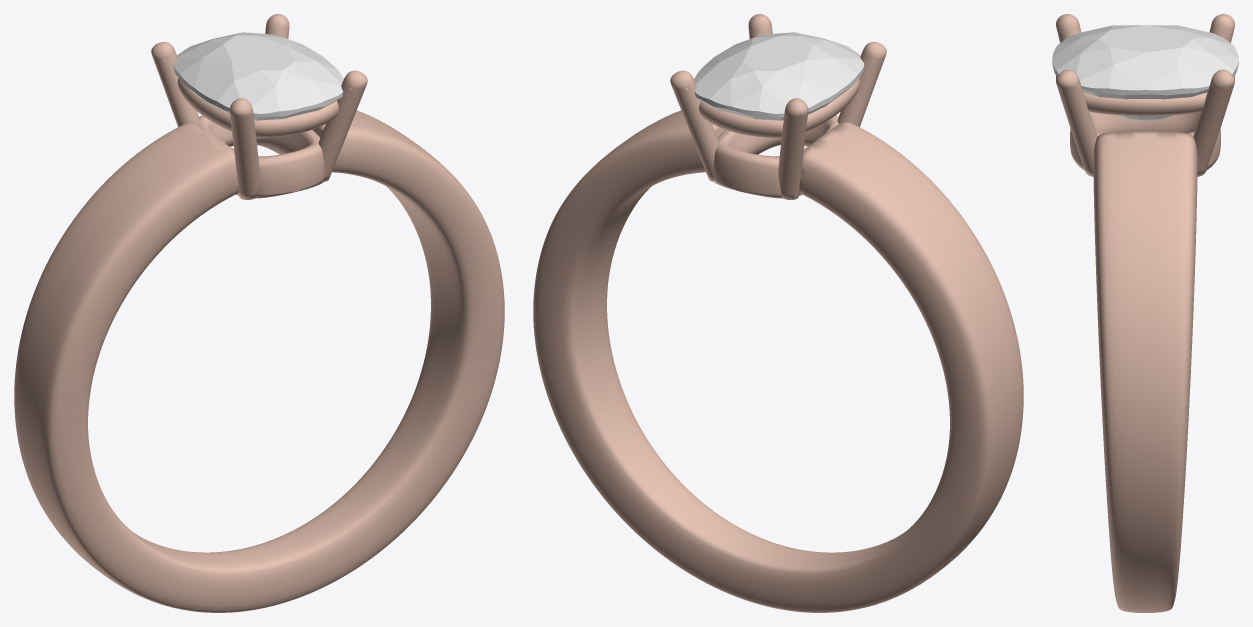
The model's file is diamond-cushion-rosegold-4prong-straighttaperedband-nosidestones.glb.
3 renders of one model, left to right at view 1: azimuth 30°, elevation 25°; view 2: azimuth 150°, elevation 25°; view 3: azimuth 270°, elevation 25°, orthographic.
Visible parts, largest first — view 1: metal, stone; view 2: metal, stone; view 3: metal, stone.
Part boxes in pixels (x1=…): metal: x1=14, y1=14, x2=504, y2=612; stone: x1=173, y1=32, x2=343, y2=120; metal: x1=533, y1=14, x2=1023, y2=612; stone: x1=694, y1=32, x2=864, y2=120; metal: x1=1056, y1=14, x2=1234, y2=612; stone: x1=1052, y1=25, x2=1238, y2=120.
Bounding box in the file's own units: 20.51 × 23.24 × 7.15.
